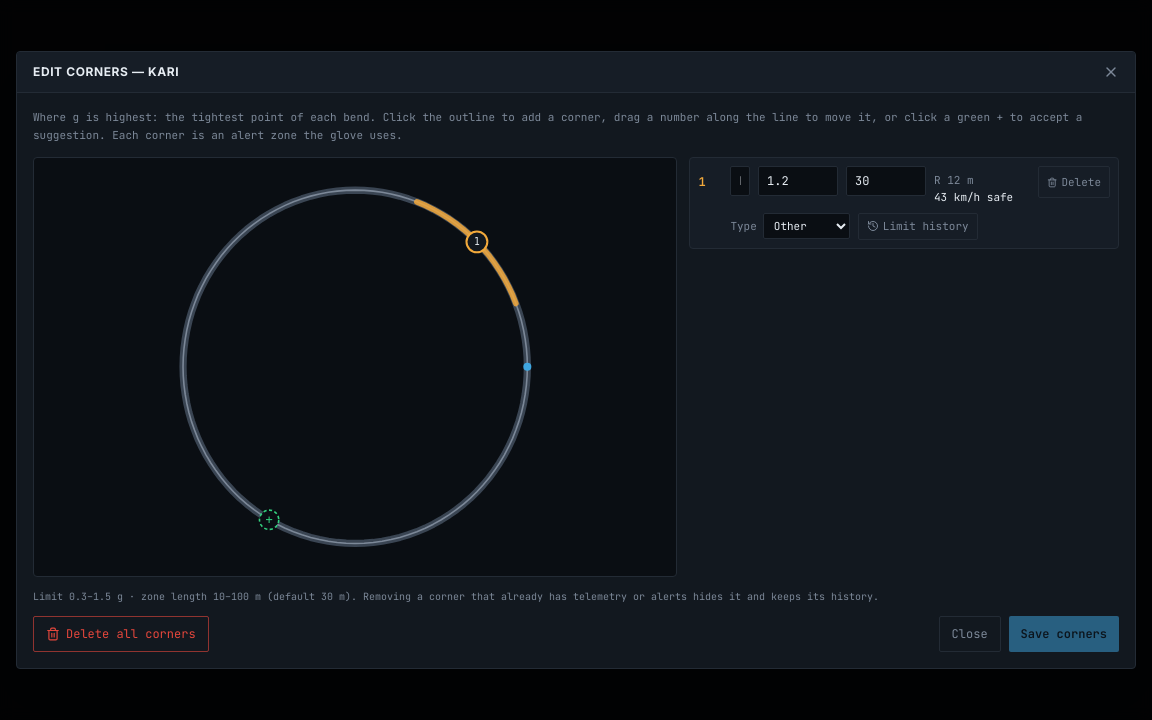
CornerEditorDialog (editable map) › deletes all corners only after confirming, and applies it on Save
Later steps or results of the test are not shown.
Expected: the element with test id "corner-marker-table" is shown, [689,157,1119,249]
Click the button with test id "editor-delete-all-btn": x=121, y=634 [33,616,209,652]
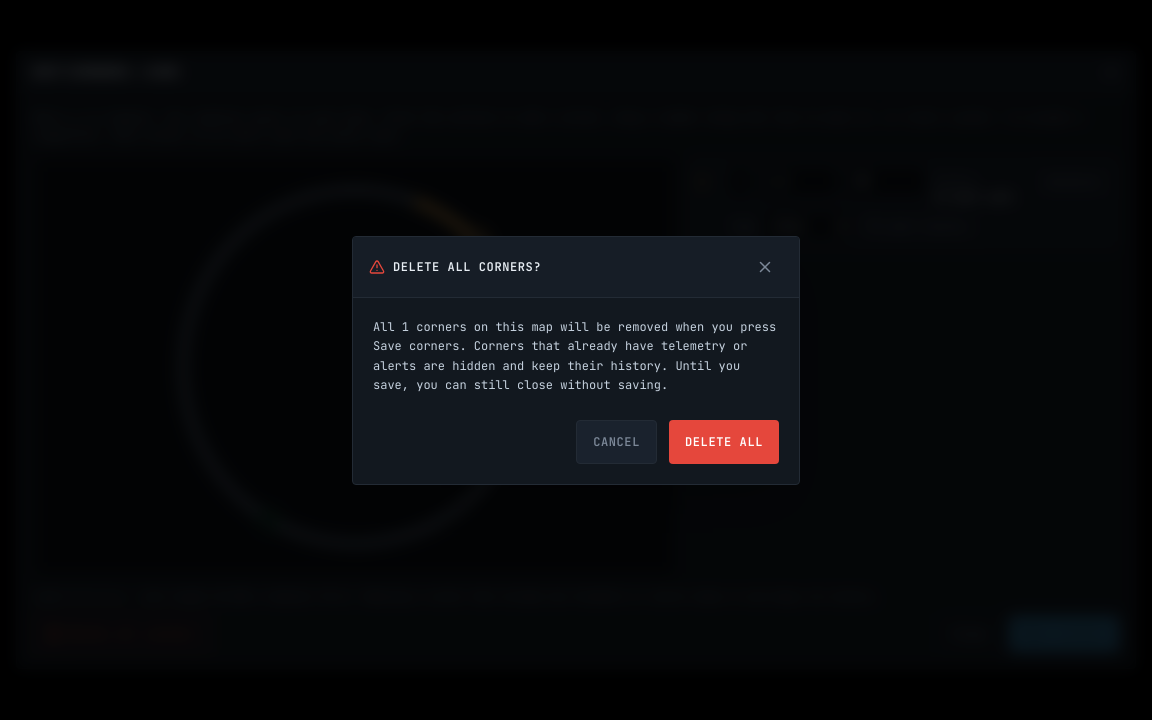
Expected: the element with test id "corner-marker-table" is shown, [689,157,1119,249]
Result: the text "Delete all corners?" is shown at [393,258,541,274]
Click the button "Cancel": x=617, y=442 [576,420,657,464]
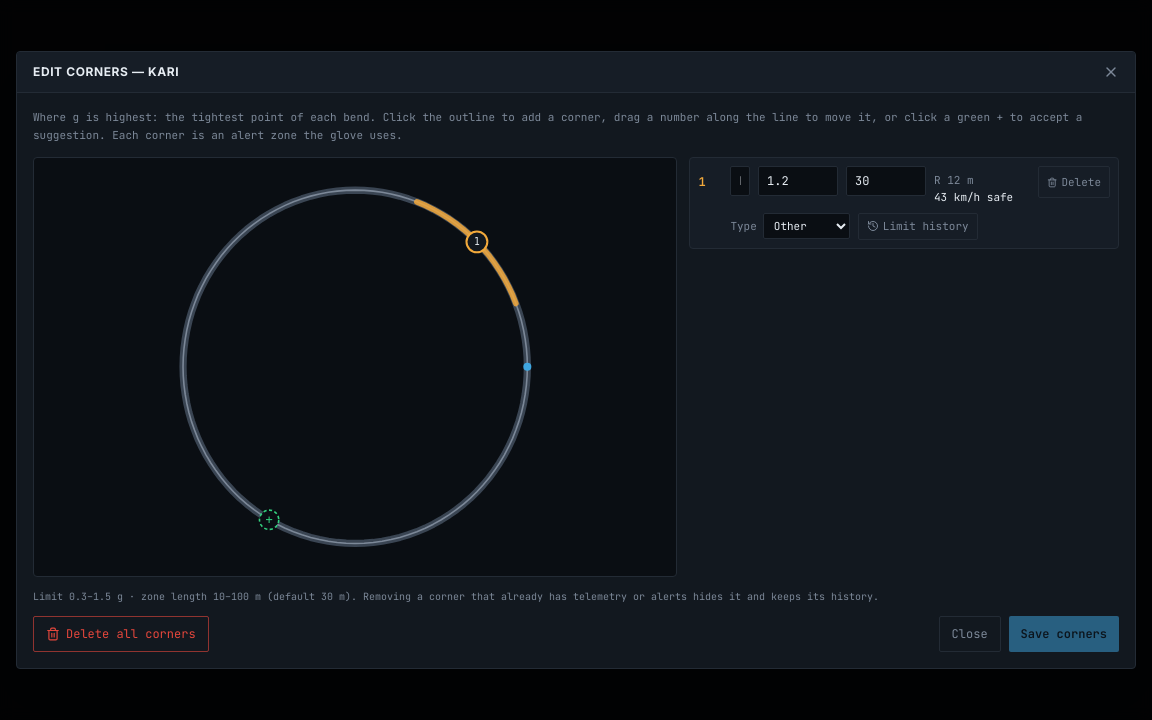
Expected: the element with test id "corner-marker-table" is shown, [689,157,1119,249]
Click the button with test id "editor-delete-all-btn": x=121, y=634 [33,616,209,652]
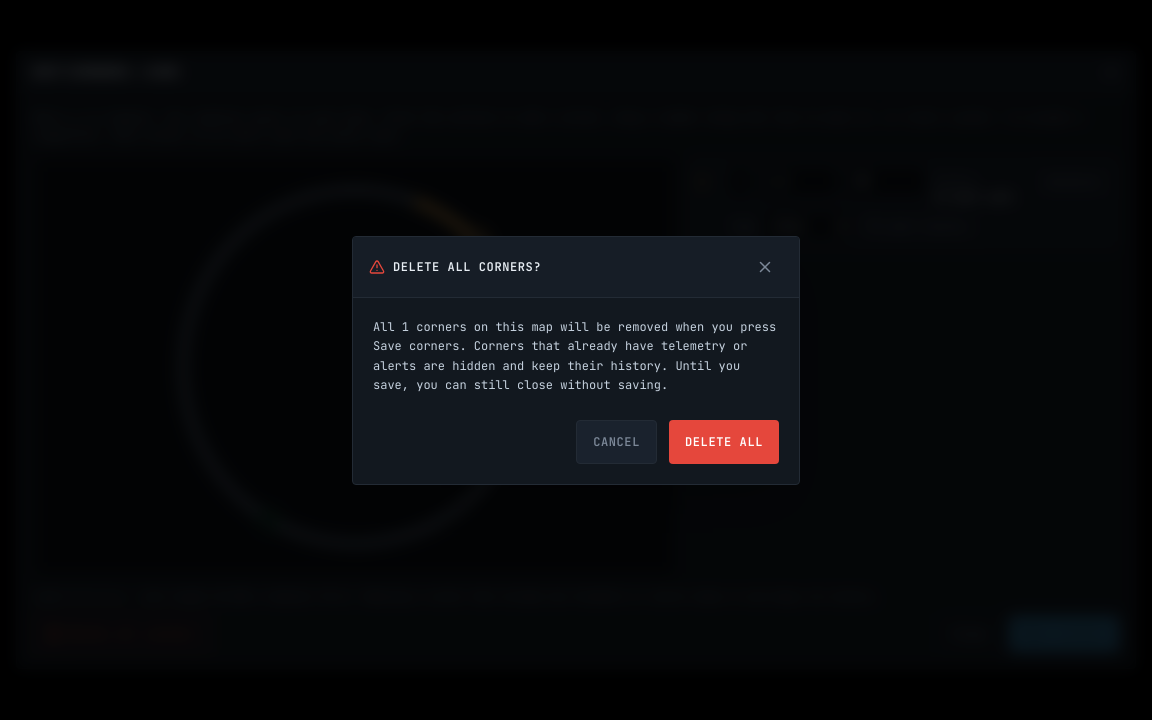
Click the button with test id "confirm-dialog-confirm-btn": x=724, y=442 [669,420,779,464]
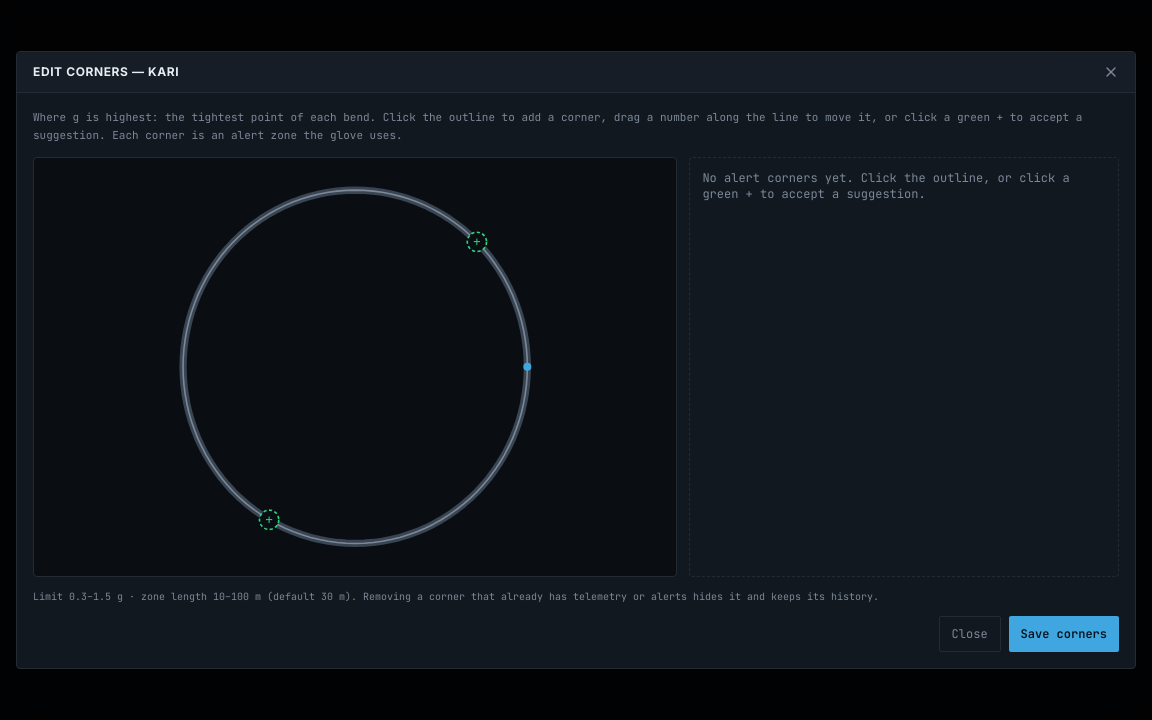
Result: the text with test id "editor-no-markers" is shown at [689,157,1119,577]
